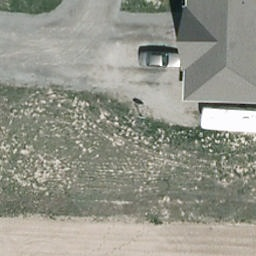car: (133, 52, 186, 71)
